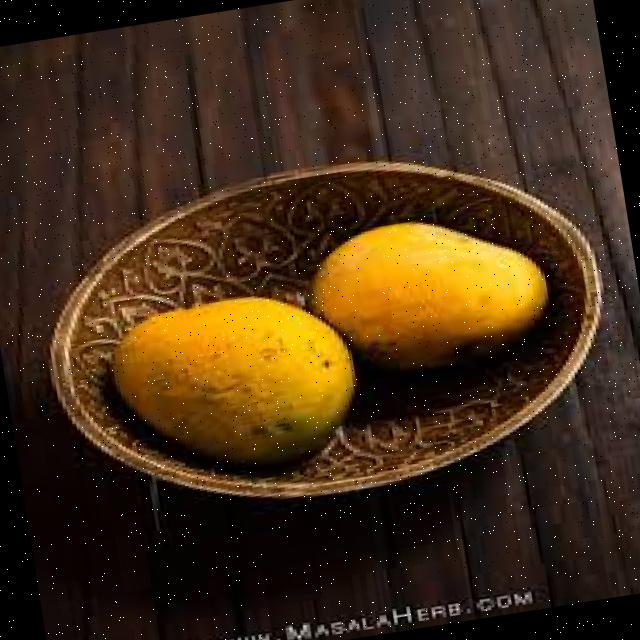mango: (112, 299, 351, 471)
